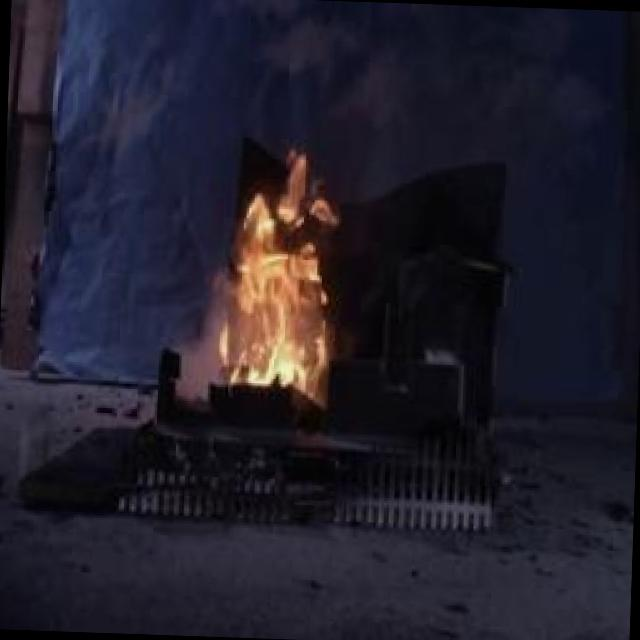fire: (202, 129, 352, 416)
